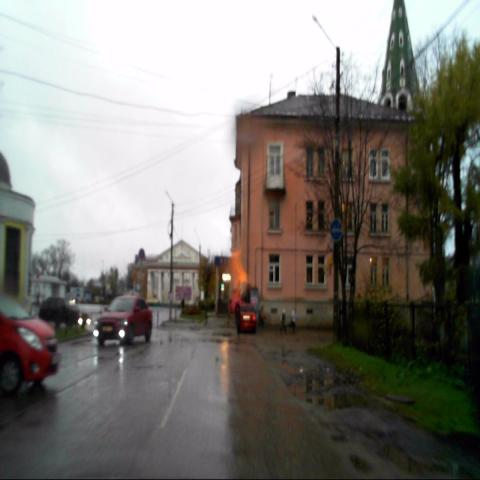4_1_2_2: (330, 218, 343, 242)
